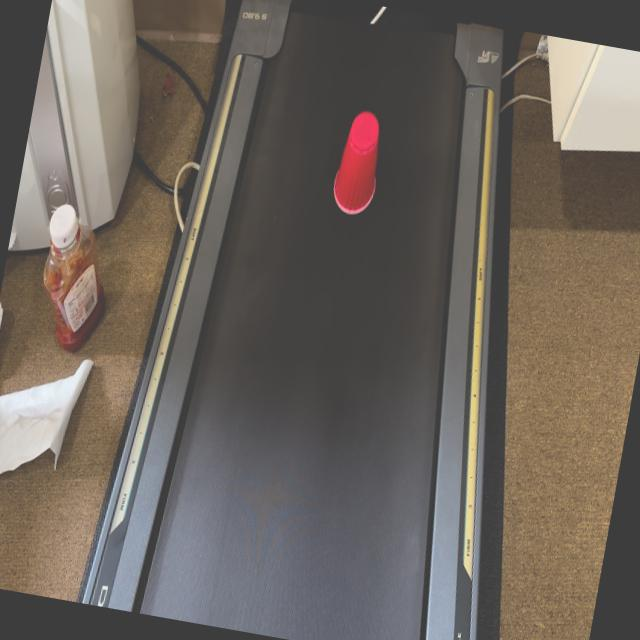Recycle: (328, 106, 389, 219)
